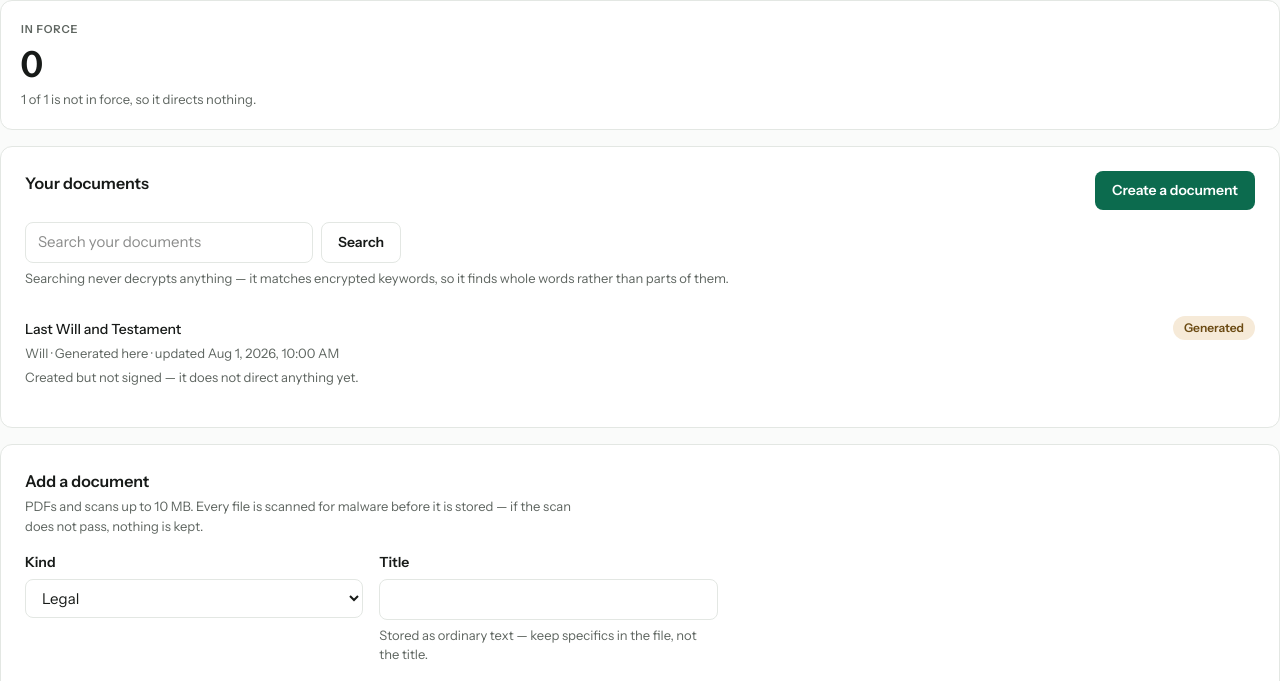
Test case: encrypted search › says a search matched nothing WITHOUT the empty-estate copy
Expected: the link "Last Will and Testament" is shown, [25,320,181,338]
Type "lake" into the field labelled "Search your documents" at (169, 242), box [25,222,313,262]
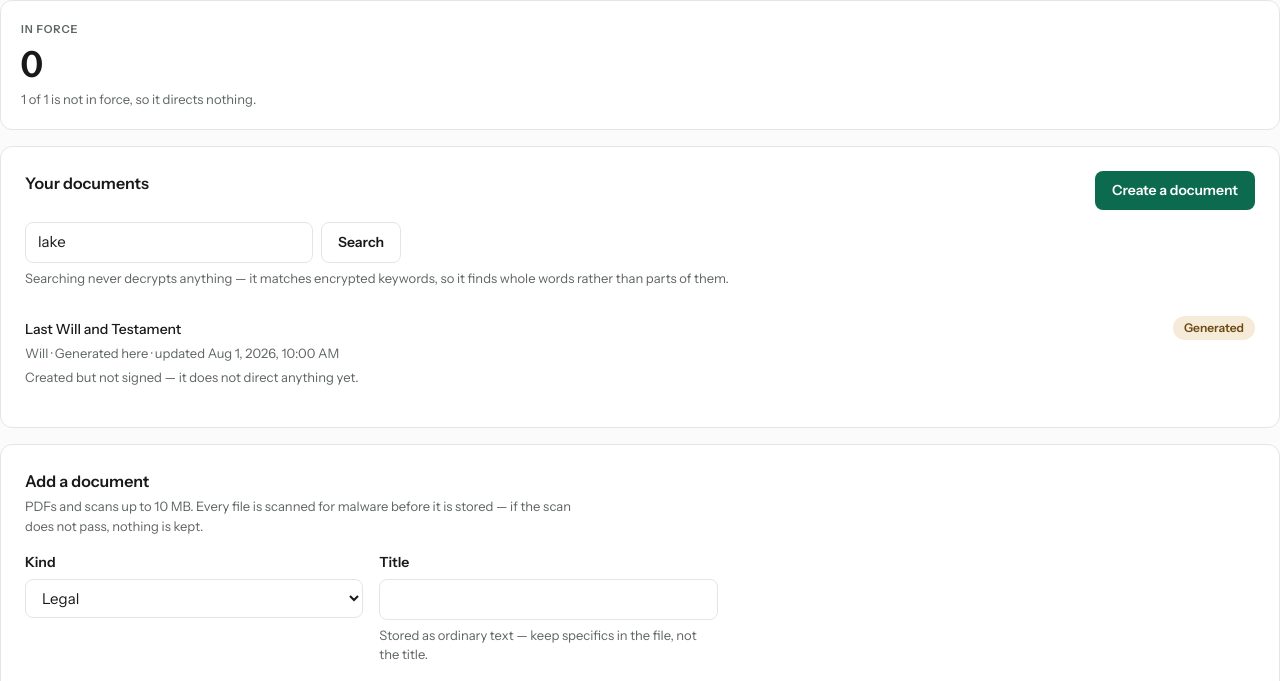
Click the button "Search" at (361, 242), box [321,222,401,262]
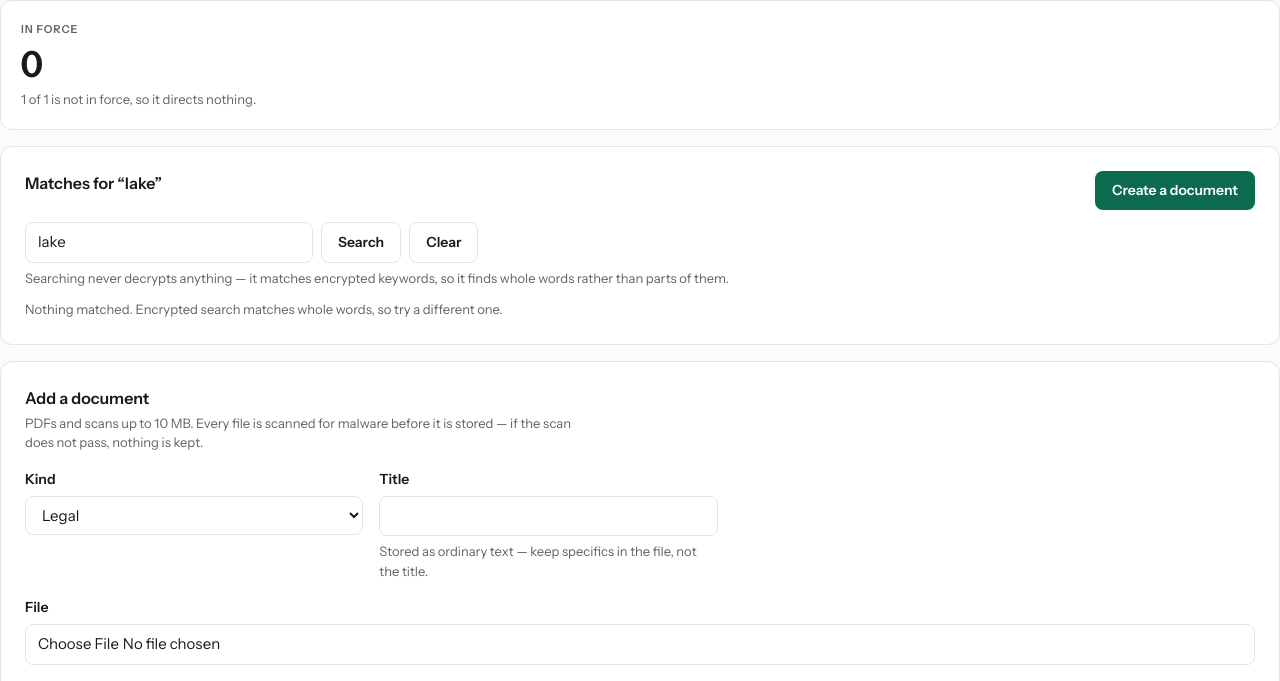
Expected: the text "Nothing matched" is shown, [25,301,503,317]
